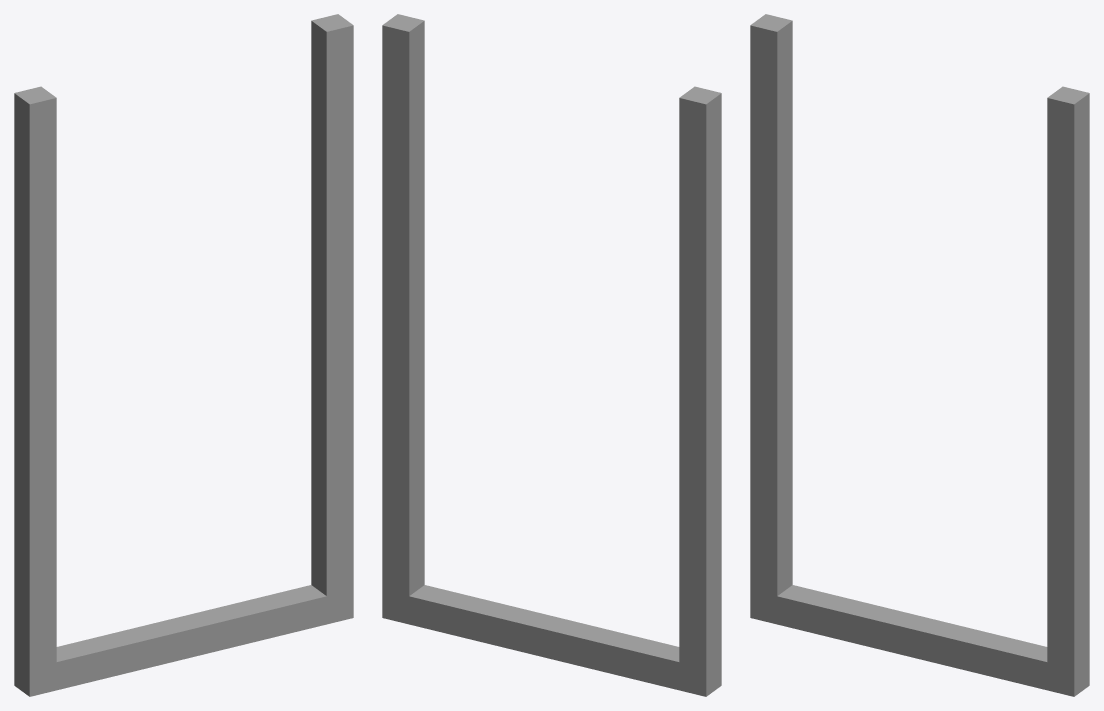
File: area.obj
The picture shows the model from 3 angles, left to right: view 1: azimuth 30°, elevation 25°; view 2: azimuth 150°, elevation 25°; view 3: azimuth 330°, elevation 25°; orthographic projection.
Visible parts, largest first — view 1: 平面.001; view 2: 平面.001; view 3: 平面.001.
Boxes of the visible parts, <box> form: 平面.001: <box>14,14,353,696</box>; 平面.001: <box>382,14,721,696</box>; 平面.001: <box>750,14,1089,696</box>.
Size of the model in its own units: 24.03 by 42 by 2.
Materials: 1 (1 with a texture image).
